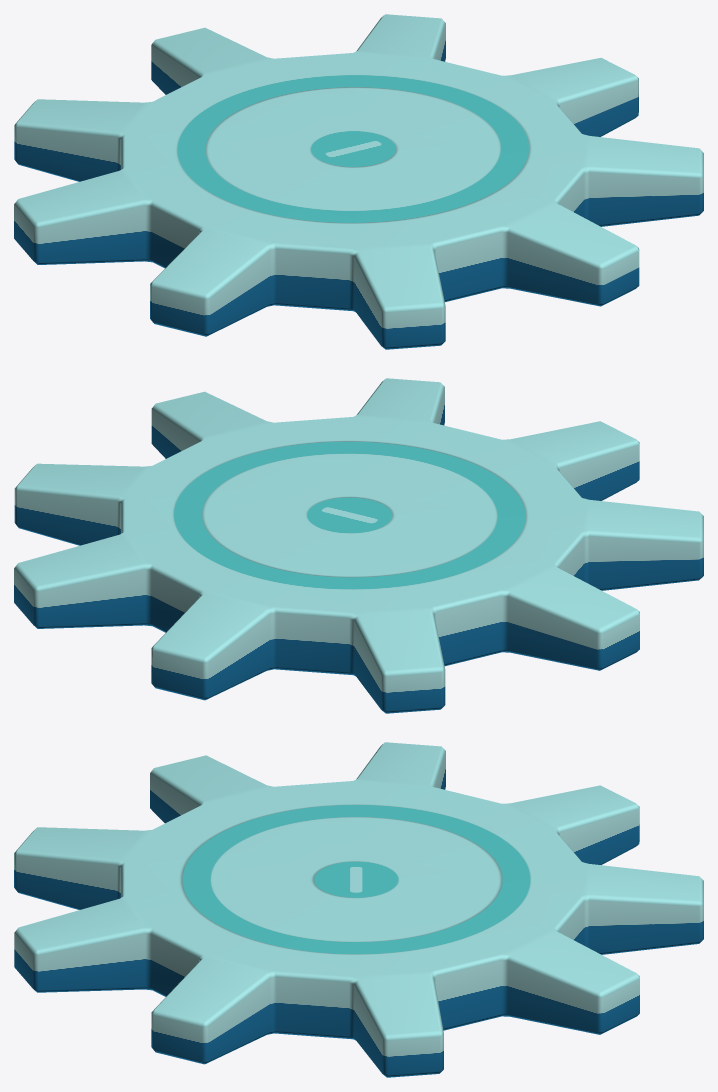
Rendered from MEC0110001.fbx.
3 renders of one model, top to bottom at view 1: azimuth 30°, elevation 25°; view 2: azimuth 150°, elevation 25°; view 3: azimuth 270°, elevation 25°, orthographic.
Visible parts, largest first — view 1: smMEC0110001; view 2: smMEC0110001; view 3: smMEC0110001.
Boxes of the visible parts, <box> form: smMEC0110001: <box>14,14,703,349</box>; smMEC0110001: <box>14,378,703,713</box>; smMEC0110001: <box>14,742,703,1077</box>.
Bounding box in the file's own units: 489 × 48.27 × 482.
Materials: 1 (1 with a texture image).
